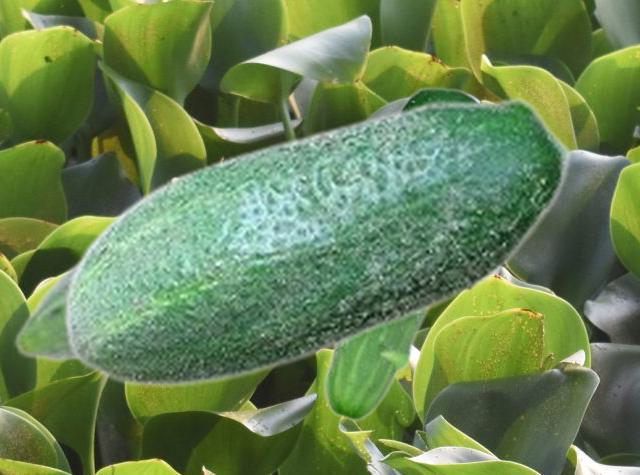cucumber: (62, 96, 572, 387), (321, 86, 478, 421), (13, 254, 79, 361)
